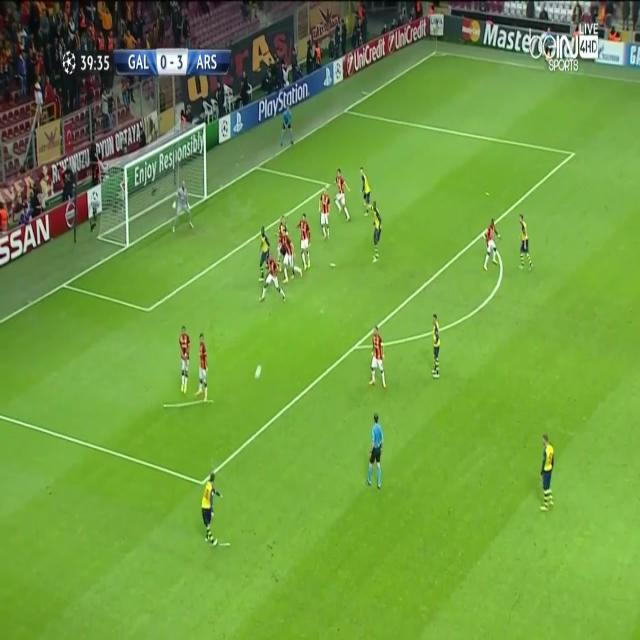Ball: (255, 363, 262, 380)
Goalkeeper: (169, 178, 194, 238)
Player: (200, 469, 223, 550), (258, 254, 288, 306), (280, 227, 304, 287), (539, 434, 556, 514), (368, 324, 388, 390), (194, 329, 211, 405), (332, 166, 352, 226), (482, 216, 502, 274), (519, 208, 534, 276), (178, 325, 191, 398), (297, 214, 312, 276), (371, 199, 384, 270), (358, 164, 374, 218), (430, 308, 442, 379), (257, 226, 271, 283), (318, 187, 332, 240)
Referee: (366, 411, 385, 492), (279, 104, 296, 150)
